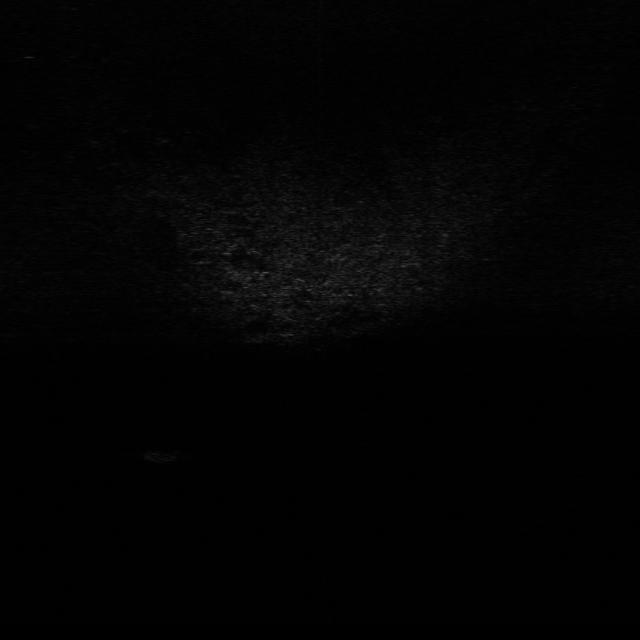cube: (147, 440, 179, 467)
